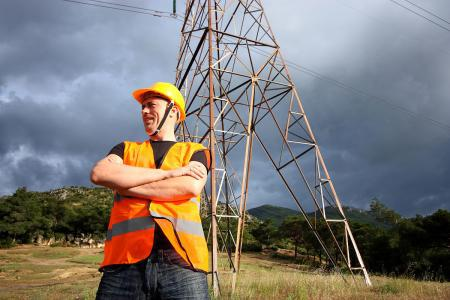helmet: (131, 77, 191, 138)
